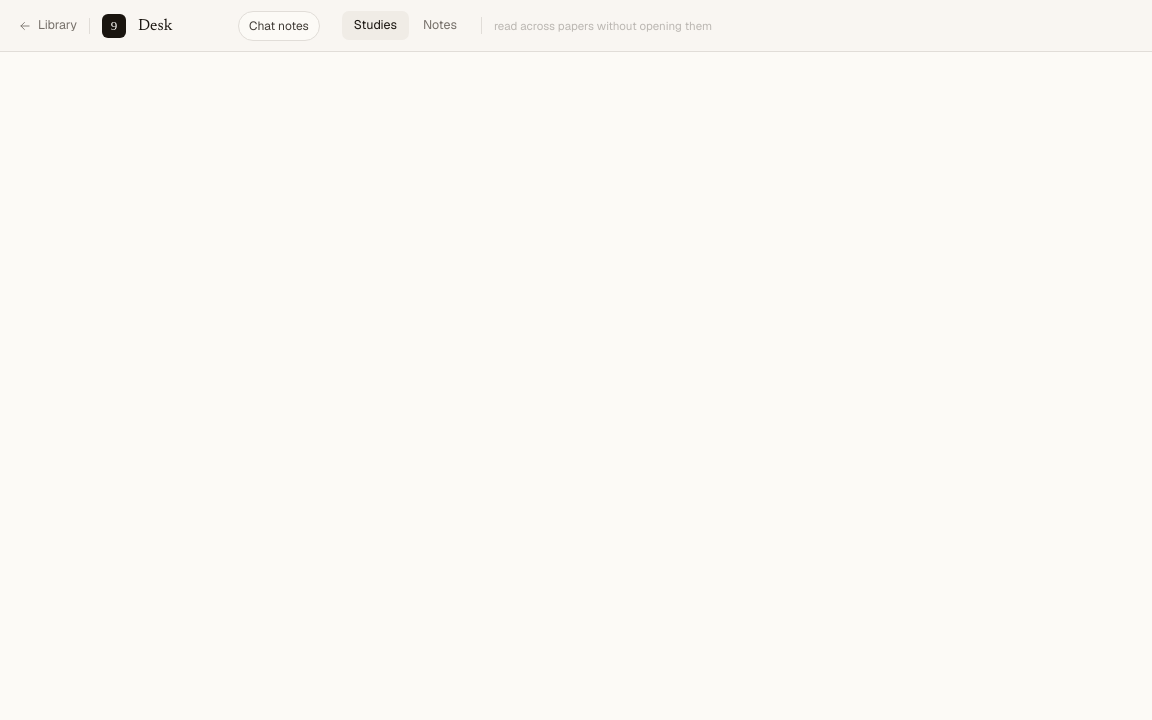
Scenario: DeskView mobile rail motion › opens the chat StickyBoard at 360px
Click the button "Chat notes" at {"x": 279, "y": 26}, box left=238, top=10, right=320, bottom=40
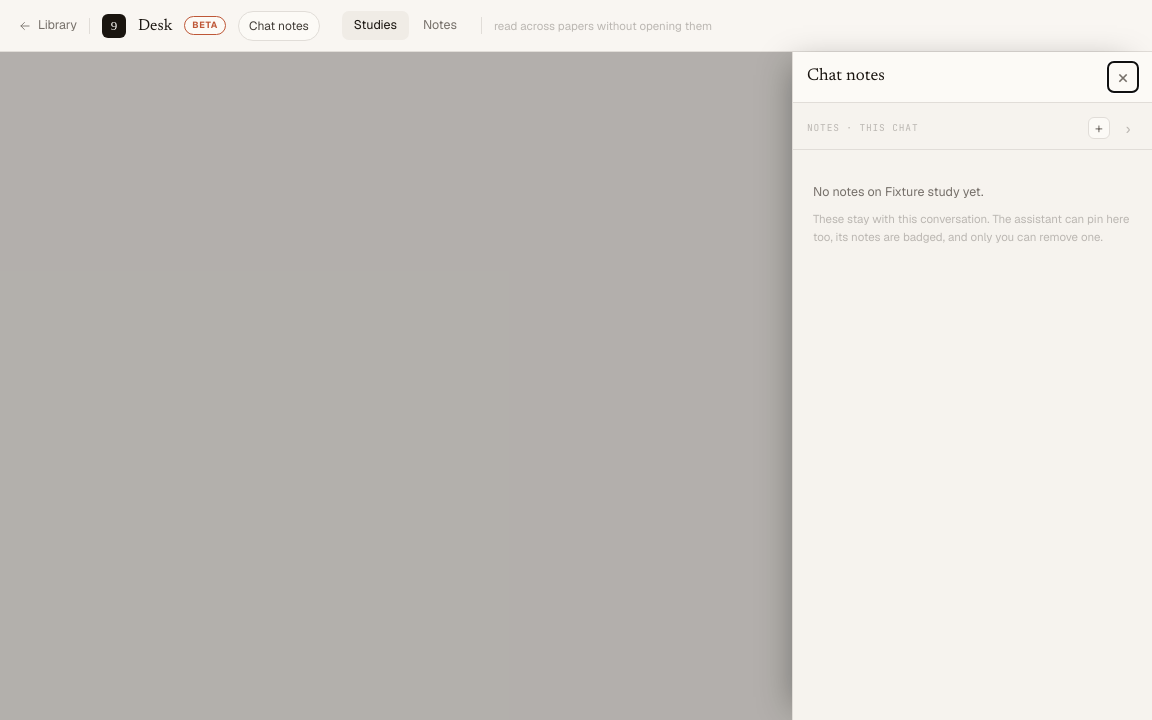
expect the element with class "board" is shown: met, box left=793, top=103, right=1151, bottom=719
expect the button titled "New note" is shown: met, box left=1088, top=117, right=1110, bottom=139
expect the button named "Hide the notes" is shown: met, box left=1118, top=120, right=1138, bottom=136
